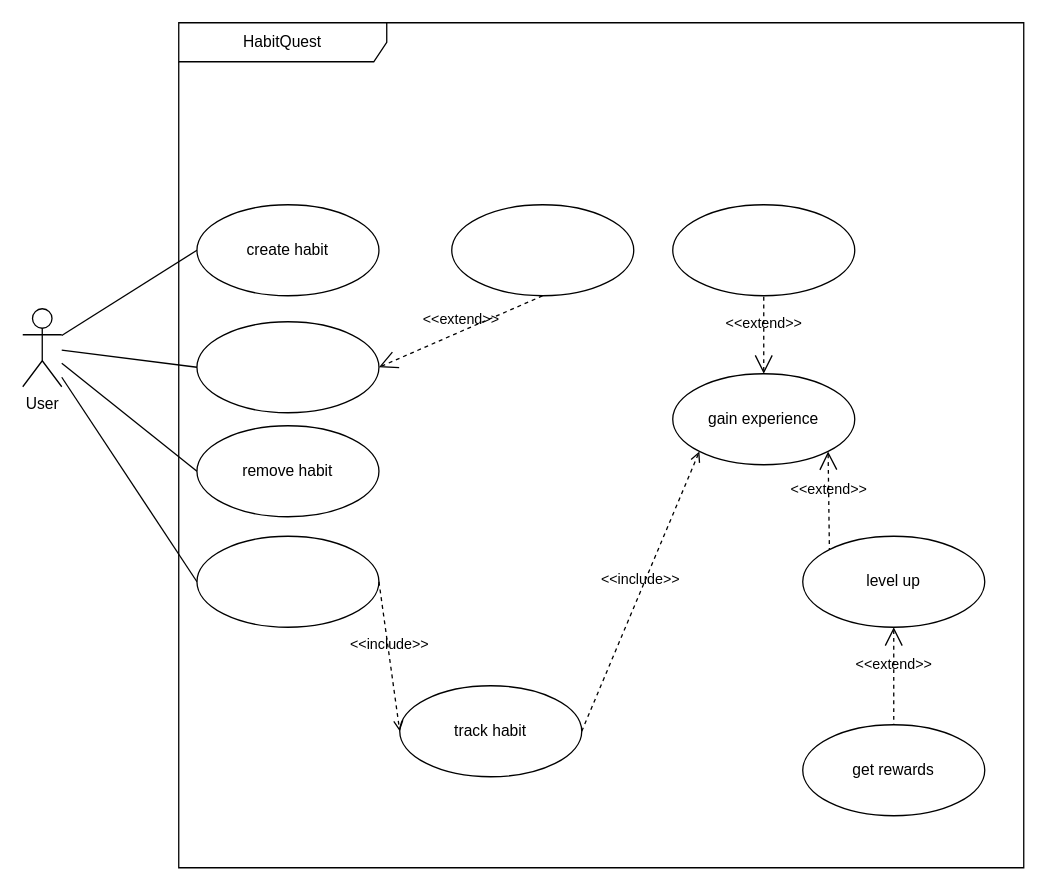
The diagram is 1047 pixels wide and 890 high, and some of its shapes have lost their labels. Each missing label, with the box of its shape:
check habit: (196, 535, 379, 627)
display habit information: (196, 320, 379, 413)
edit habit: (450, 203, 634, 296)
streak bonus: (671, 203, 855, 296)
